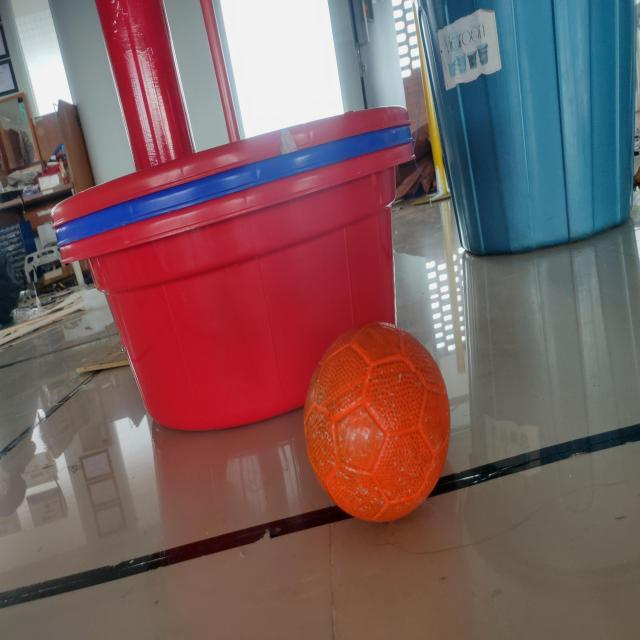bola: (288, 320, 461, 532)
